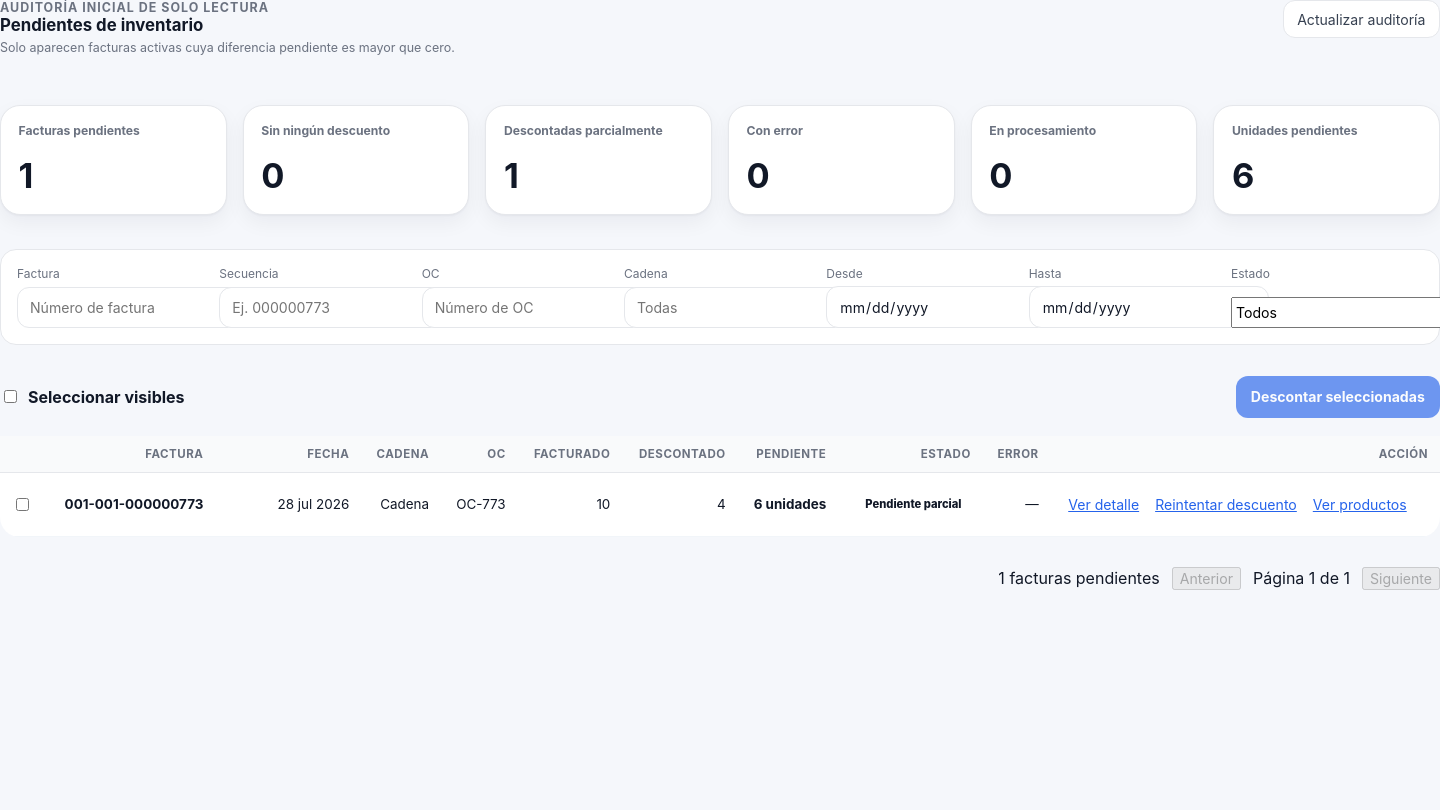
Test: PendingInventoryInvoices › presenta la diferencia y retira la factura después de corregirla
Click the checkbox named "Seleccionar 001-001-000000773".
click(22, 504)  # box x1=16 y1=498 x2=29 y2=511
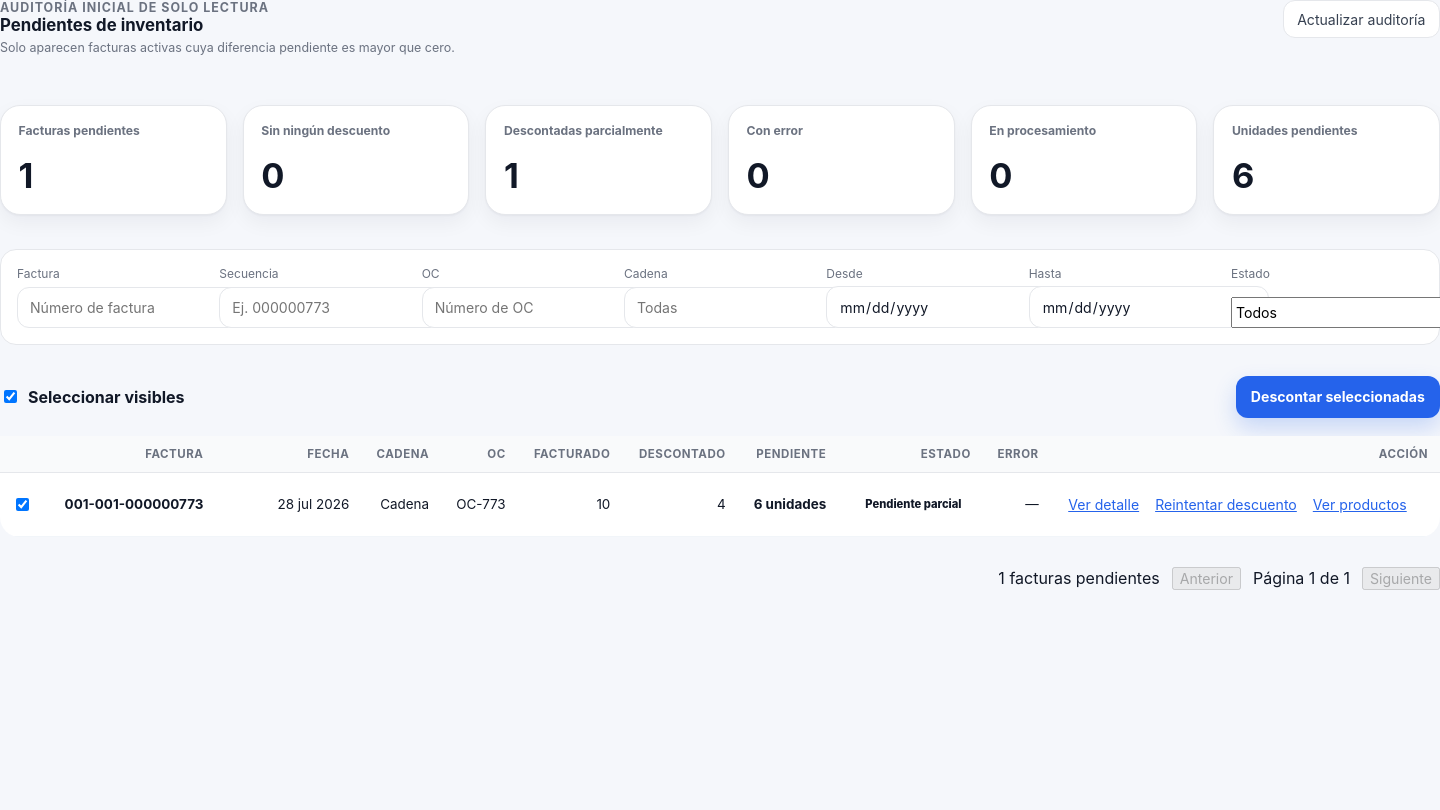
Click the button "Descontar seleccionadas".
click(1338, 397)  # box x1=1236 y1=376 x2=1439 y2=418
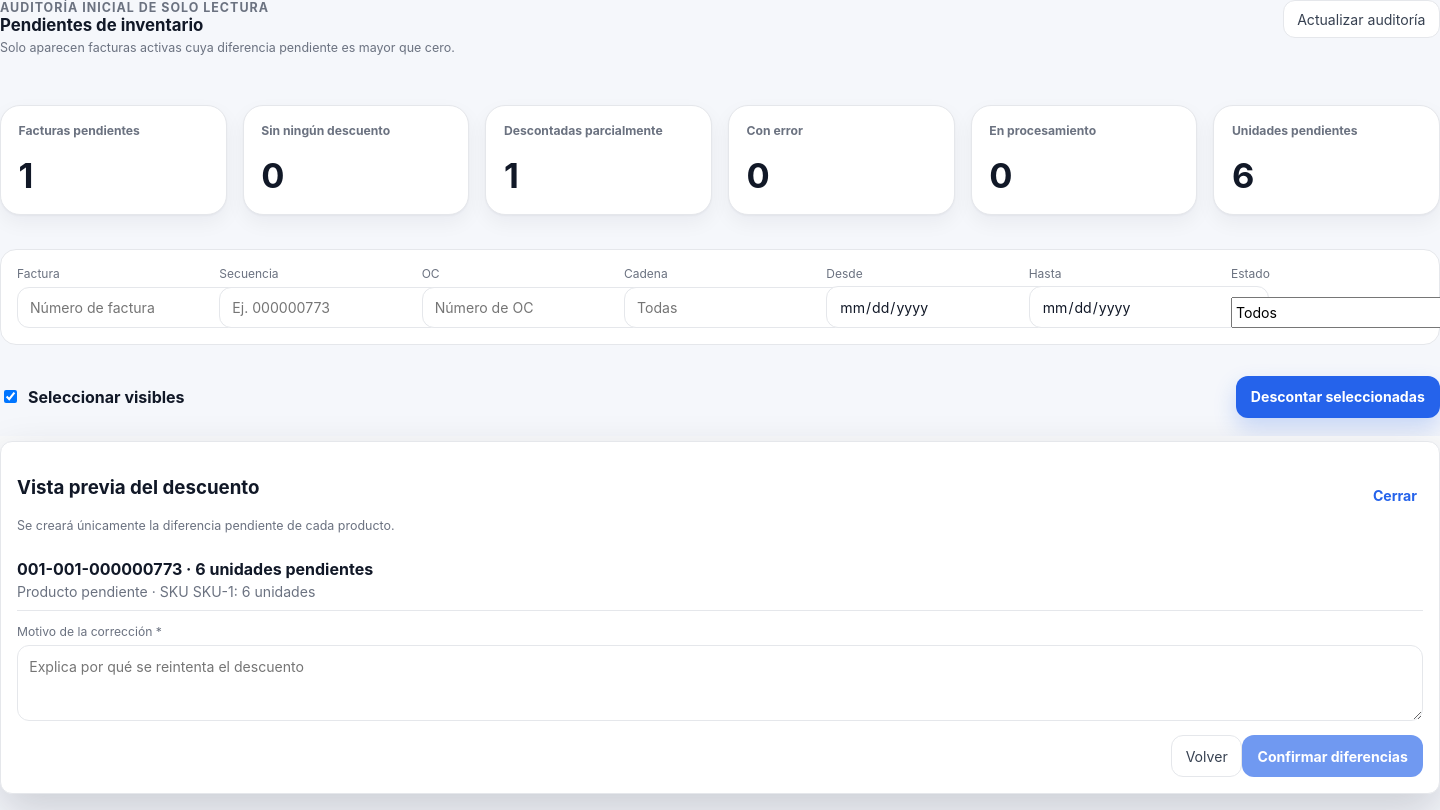
Expected: the text "001-001-000000773 · 6 unidades pendientes" is shown, x1=17 y1=559 x2=373 y2=579
Type "Completar movimiento faltante" into the text box.
click(720, 683); type("Completar movimiento faltante")  # box x1=17 y1=645 x2=1423 y2=721
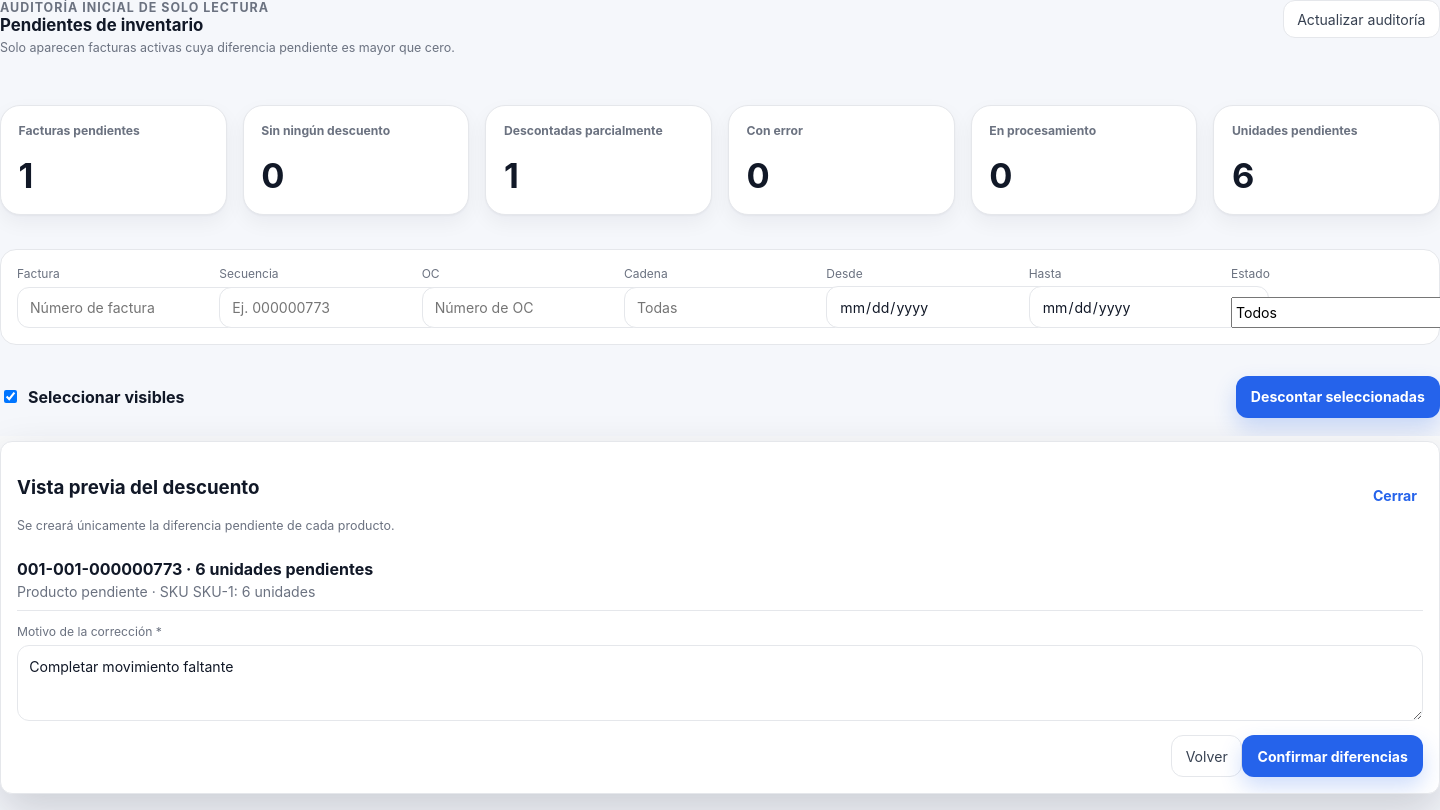
Click the button "Confirmar diferencias".
click(1333, 756)  # box x1=1242 y1=735 x2=1423 y2=777
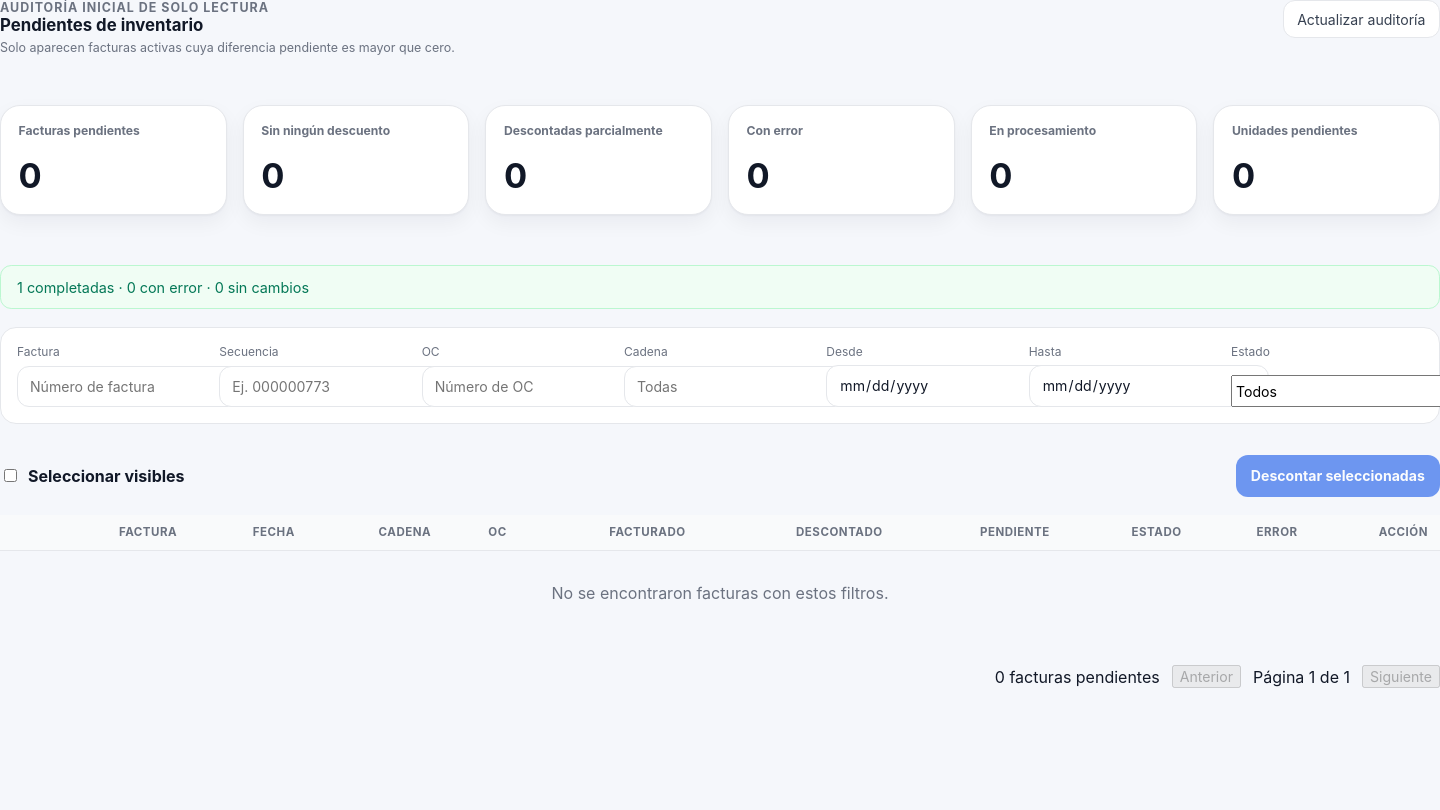
Expected: the text "1 completadas · 0 con error · 0 sin cambios" is shown, x1=0 y1=265 x2=1439 y2=309
Expected: the text "No se encontraron facturas con estos filtros." is shown, x1=552 y1=583 x2=888 y2=603
